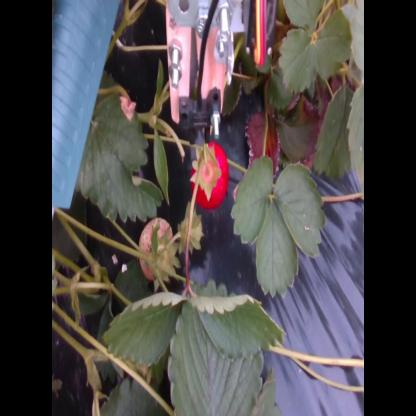ripe: (186, 146, 226, 209)
unripe: (136, 216, 178, 284)
